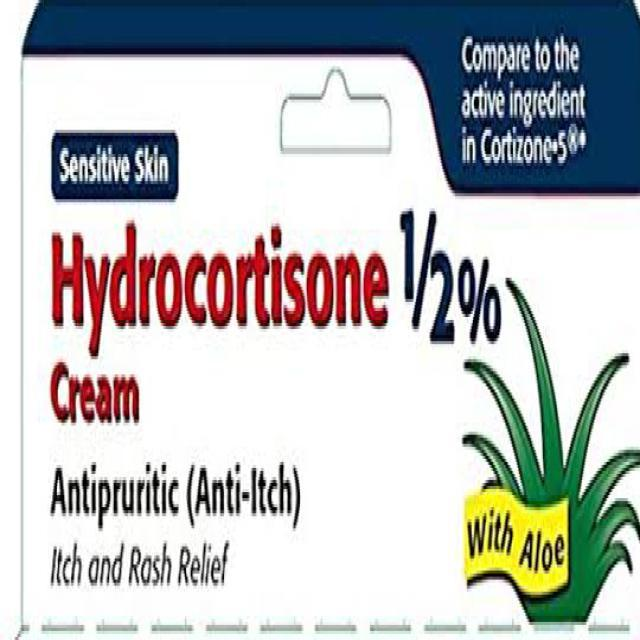drug-name: (48, 228, 390, 354)
